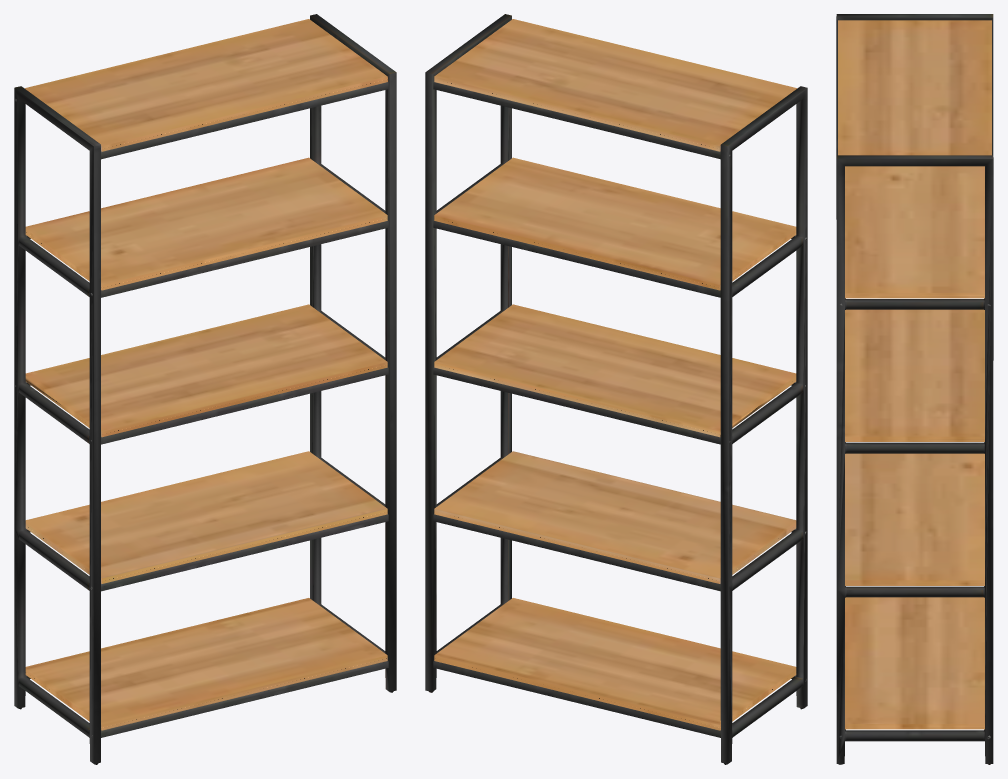
Rendered from steel_frame_shelves_01.glb.
3 renders of one model, left to right at view 1: azimuth 30°, elevation 25°; view 2: azimuth 150°, elevation 25°; view 3: azimuth 270°, elevation 25°, orthographic. The views are drawn at different scales.
Parts seen in each view (by area): view 1: steel_frame_shelves_01; view 2: steel_frame_shelves_01; view 3: steel_frame_shelves_01.
Boxes of the visible parts, <box> form: steel_frame_shelves_01: <box>14,14,396,764</box>; steel_frame_shelves_01: <box>425,14,807,764</box>; steel_frame_shelves_01: <box>836,14,993,764</box>.
Size of the model in its own units: 10.97 by 21.4 by 5.02.
Materials: 1 (1 with a texture image).
